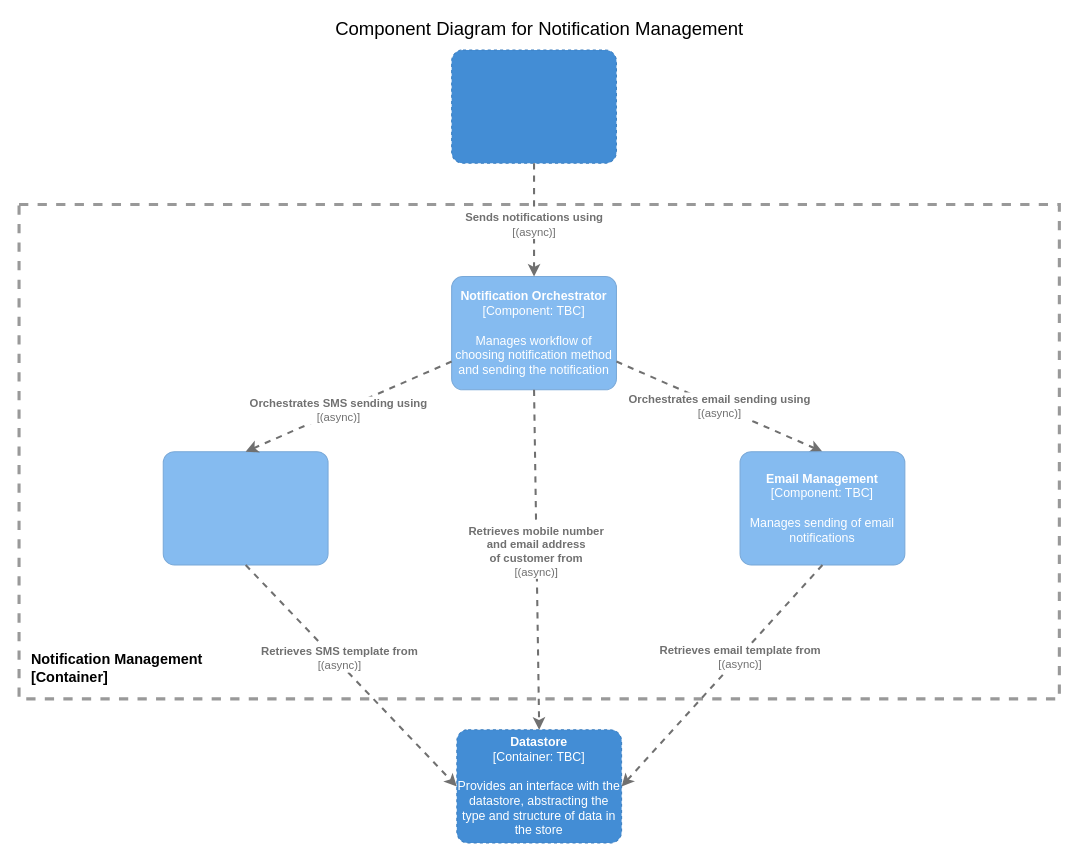
Image size: 1078x861. Some labels were removed from this diagram. The centre of each missing label's shape, as x and y in pixels:
SMS Management [Component: TBC] Manages sending of SMS notifications: the point at 245,508
Ticket Managment [Container: TBC] Manages all aspects of Tickets: the point at 533,106
